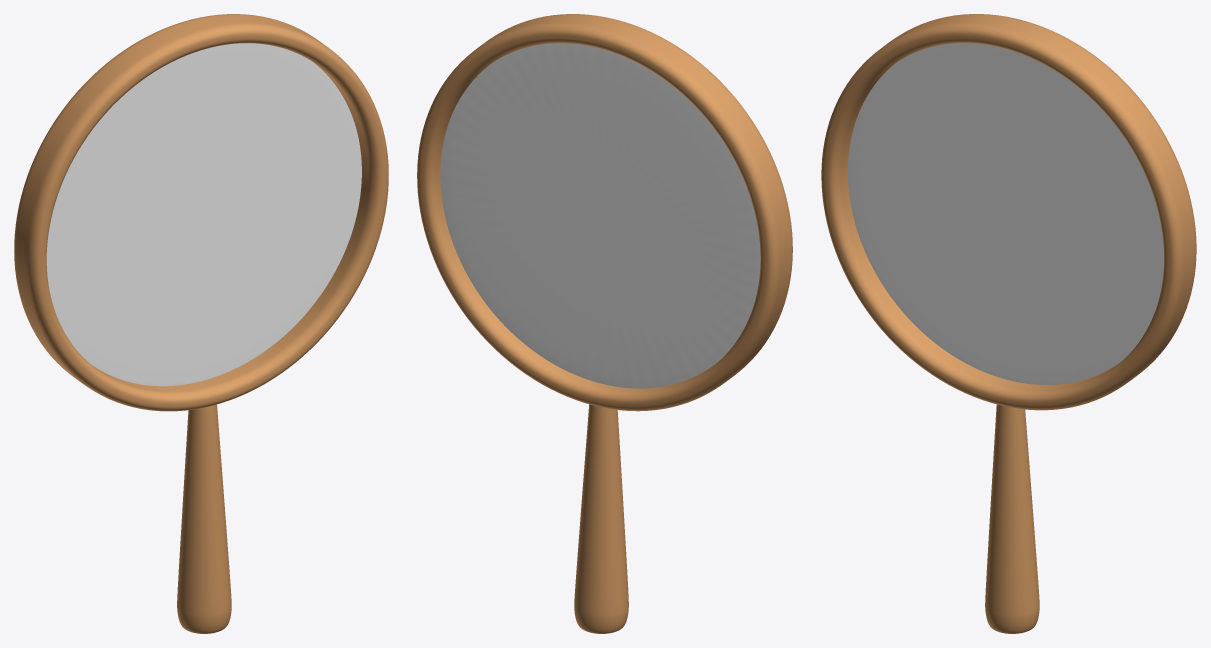
The model's file is magnify_glass.gltf.
The picture shows the model from 3 angles, left to right: view 1: azimuth 30°, elevation 25°; view 2: azimuth 150°, elevation 25°; view 3: azimuth 330°, elevation 25°; orthographic projection.
Visible parts, largest first — view 1: Circle.002; view 2: Circle.002; view 3: Circle.002.
Part boxes in pixels (left/top/right/bottom): Circle.002: left=14, top=14, right=388, bottom=633; Circle.002: left=417, top=14, right=792, bottom=633; Circle.002: left=821, top=14, right=1196, bottom=633.
Bounding box in the file's own units: 1.56 × 2.49 × 0.2052.
